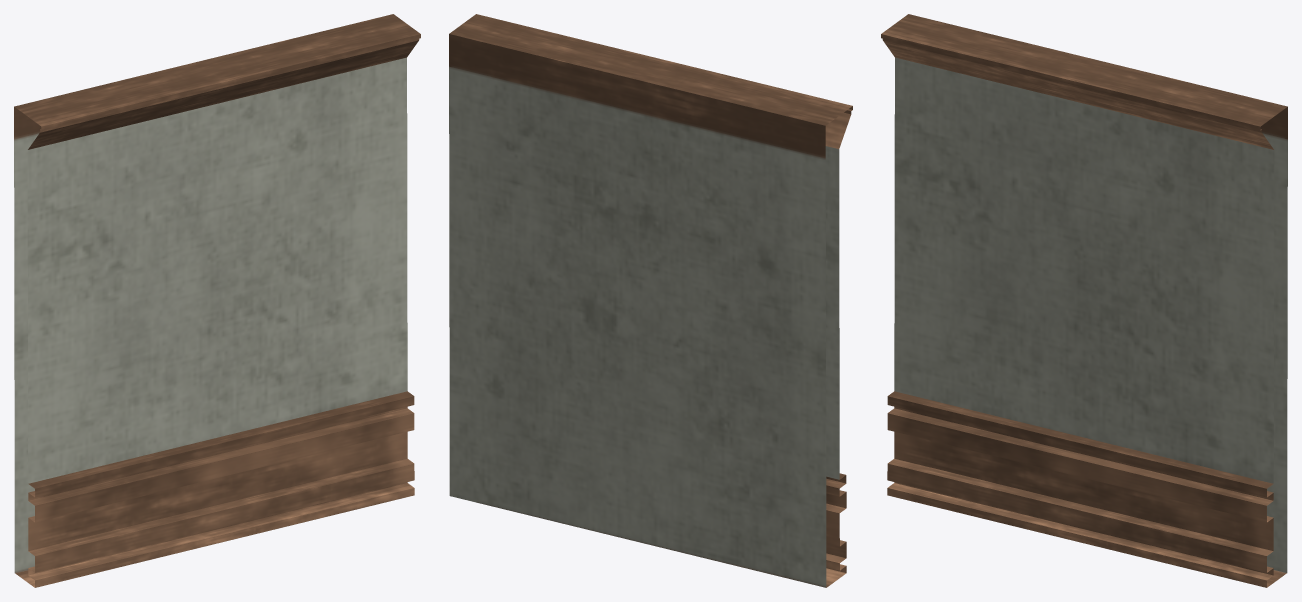
The model's file is wall_default.fbx.
3 renders of one model, left to right at view 1: azimuth 30°, elevation 25°; view 2: azimuth 150°, elevation 25°; view 3: azimuth 330°, elevation 25°, orthographic.
Parts seen in each view (by area): view 1: wall_default; view 2: wall_default; view 3: wall_default.
Boxes of the visible parts, x1,y1,x2,y2 form: wall_default: (14, 14, 420, 587); wall_default: (449, 14, 852, 587); wall_default: (881, 14, 1287, 587).
Size of the model in its own units: 240 by 282 by 30.07.
